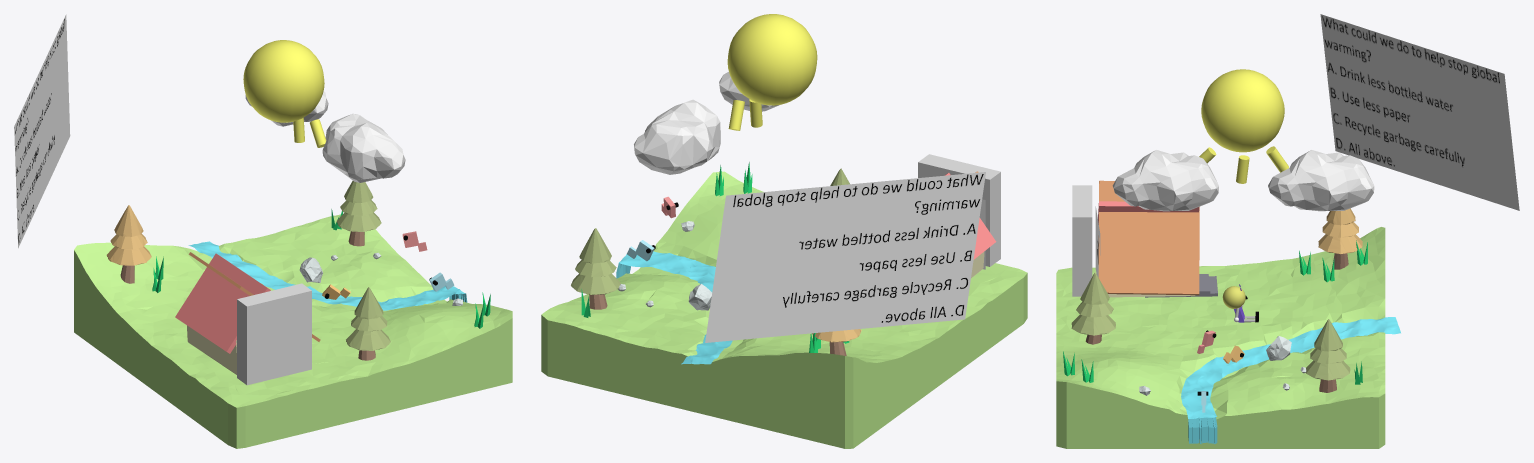
The model's file is sunnyQ7.glb.
3 renders of one model, left to right at view 1: azimuth 30°, elevation 25°; view 2: azimuth 150°, elevation 25°; view 3: azimuth 270°, elevation 25°, orthographic. The views are drawn at different scales.
Parts seen in each view (by area): view 1: terrain, pPlane2, Cube, pSphere1, house:pCube6, pPlatonic1, water, house:pCube4, pCylinder1, trees:pCylinder8, trees:pCylinder1, pCylinder4 (+1 smaller); view 2: terrain, pPlane2, pSphere1, clouds:pPlatonic1, Cube, water, trees:pCylinder1, trees:pCylinder4, pPlatonic1, trees:pCylinder3, stone:pPlatonic2, house:pCube6; view 3: terrain, pPlane2, house:pCube5, pSphere1, clouds:pPlatonic1, pPlatonic1, water, Cube, pCylinder1, trees:pCylinder8, trees:pCylinder1, trees:pCylinder4 (+4 smaller).
Boxes of the visible parts, <box> form: terrain: <box>74,214,512,448</box>; pPlane2: <box>14,14,70,248</box>; Cube: <box>237,283,311,385</box>; pSphere1: <box>243,40,324,122</box>; house:pCube6: <box>175,253,270,353</box>; pPlatonic1: <box>322,113,405,182</box>; water: <box>188,241,467,310</box>; house:pCube4: <box>187,325,236,374</box>; pCylinder1: <box>346,329,390,350</box>; trees:pCylinder8: <box>106,246,151,265</box>; trees:pCylinder1: <box>336,212,381,231</box>; pCylinder4: <box>354,287,383,319</box>; terrain: <box>541,171,1027,448</box>; pPlane2: <box>705,172,985,342</box>; pSphere1: <box>727,14,817,105</box>; clouds:pPlatonic1: <box>634,99,720,174</box>; Cube: <box>918,154,1000,266</box>; water: <box>616,251,732,364</box>; trees:pCylinder1: <box>571,273,620,294</box>; trees:pCylinder4: <box>579,228,611,263</box>; pPlatonic1: <box>719,71,779,111</box>; trees:pCylinder3: <box>575,260,616,277</box>; stone:pPlatonic2: <box>688,284,711,310</box>; house:pCube6: <box>945,173,996,259</box>; terrain: <box>1056,227,1385,448</box>; pPlane2: <box>1320,14,1519,210</box>; house:pCube5: <box>1098,180,1199,295</box>; pSphere1: <box>1201,69,1284,152</box>; clouds:pPlatonic1: <box>1268,150,1374,211</box>; pPlatonic1: <box>1112,150,1218,211</box>; water: <box>1181,317,1400,444</box>; Cube: <box>1072,185,1092,296</box>; pCylinder1: <box>1071,314,1115,335</box>; trees:pCylinder8: <box>1318,234,1362,254</box>; trees:pCylinder1: <box>1306,360,1350,380</box>; trees:pCylinder4: <box>1314,319,1342,351</box>.
Bounding box in the file's own units: 0.4613 × 0.3533 × 0.4738.
Materials: 27 (2 with a texture image).
